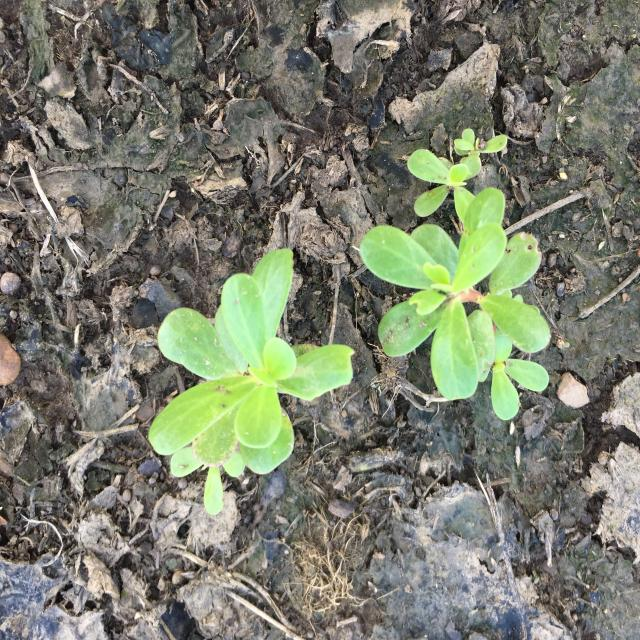Purslane: (360, 128, 551, 420), (148, 248, 356, 516)
